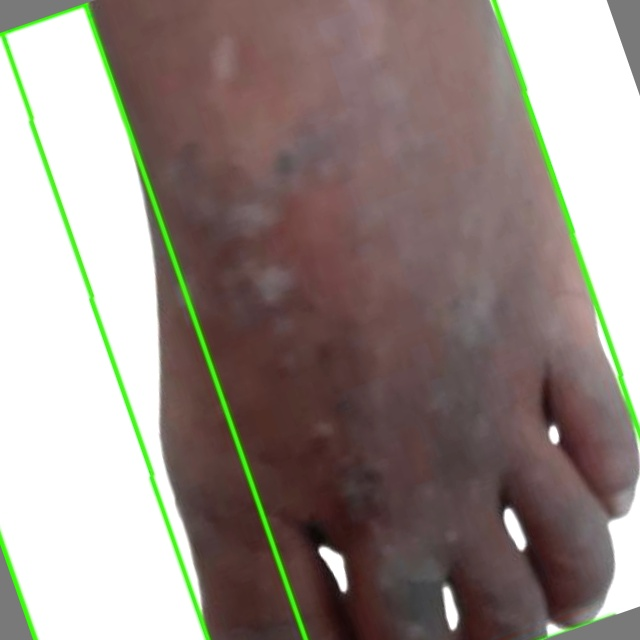Contact Dermatitis: (1, 0, 639, 639), (0, 4, 304, 639)
